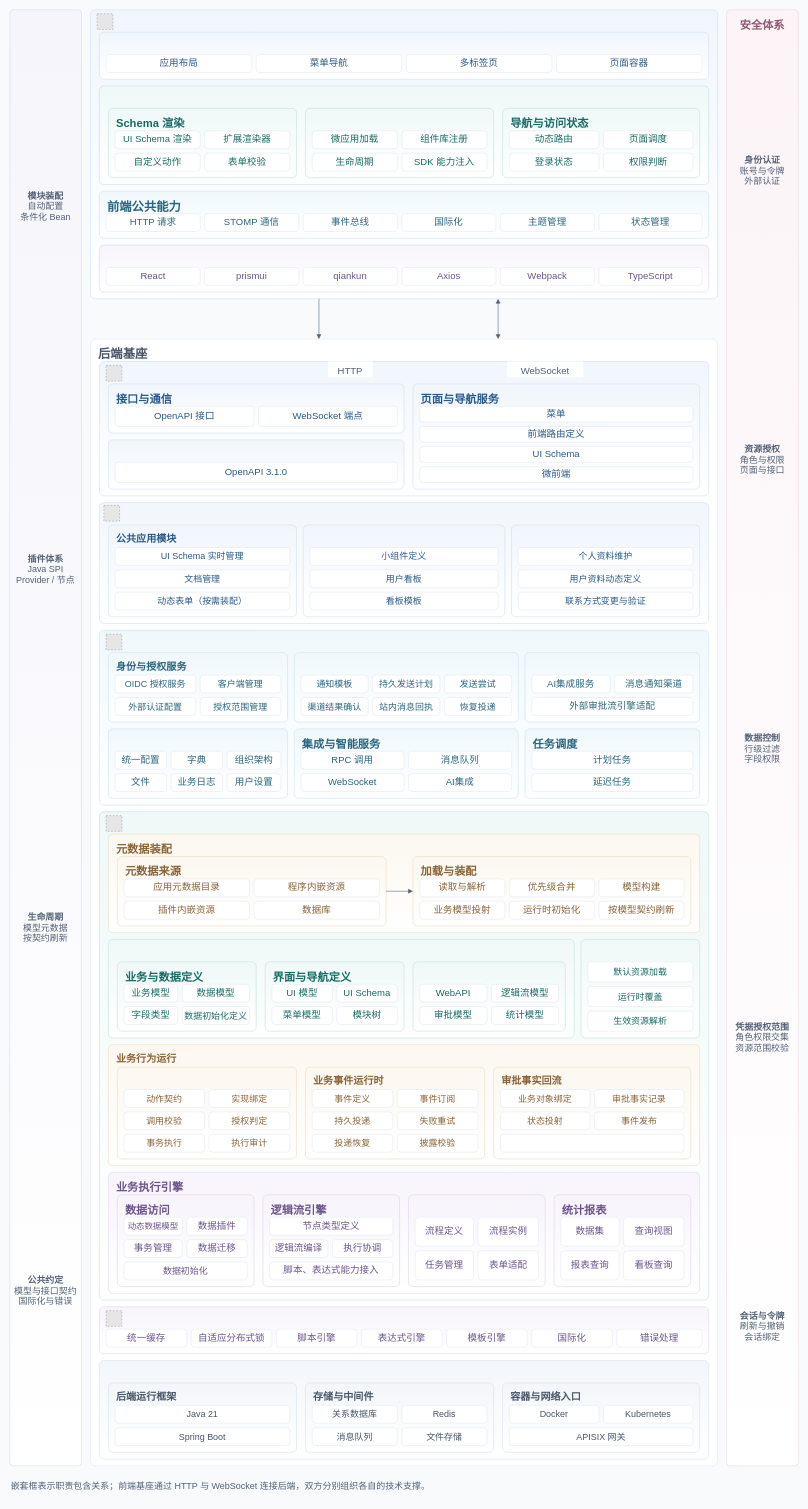
The diagram is 808 pixels wide and 1509 high, and some of its shapes have lost their labels. Grey dashed boxes stand in for pictures. The box of each missing label's shape, as (x1, y1, x2, y2) in pixels:
业务公共服务: (108, 728, 288, 798)
业务动作运行时: (117, 1067, 297, 1159)
公共能力: (99, 1306, 709, 1354)
前端基座: (90, 9, 718, 299)
前端框架与构建支撑: (99, 244, 709, 292)
基础设施: (99, 1360, 709, 1459)
外部服务适配: (524, 652, 700, 722)
审批执行: (408, 1194, 545, 1287)
应用呈现: (99, 32, 709, 79)
应用层: (99, 502, 709, 624)
应用资源服务: (580, 939, 700, 1038)
微前端与组件扩展: (305, 108, 494, 178)
接入与协议层: (99, 361, 709, 496)
接口与执行定义: (412, 961, 565, 1031)
接口文档: (108, 439, 404, 489)
核心层: (99, 811, 709, 1300)
模型运行时: (108, 939, 574, 1038)
消息通知: (294, 652, 518, 722)
用户资料管理: (511, 524, 700, 617)
看板与小组件: (303, 524, 505, 617)
能力层: (99, 630, 709, 805)
装配与扩展: (9, 9, 81, 1466)
通知责任移交: (500, 1134, 684, 1152)
页面与微前端运行能力: (99, 85, 709, 185)
